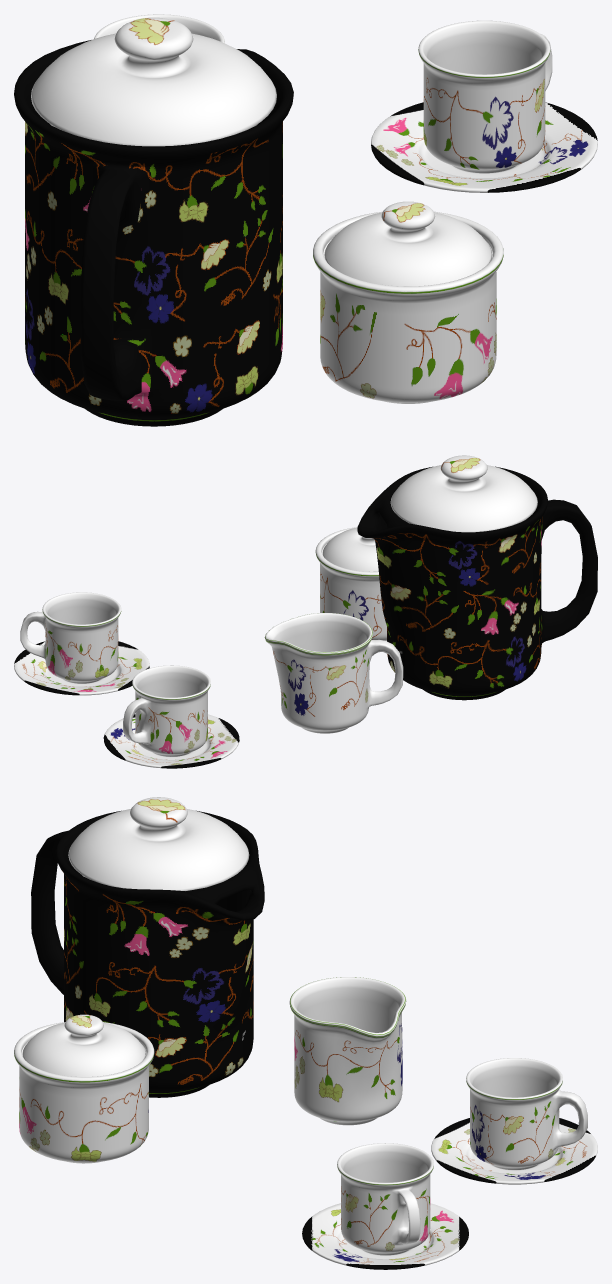
Rendered from teapot_set.obj.
3 views of the same model, one above another, from view 1: azimuth 30°, elevation 25°; view 2: azimuth 150°, elevation 25°; view 3: azimuth 270°, elevation 25° (orthographic). The views are drawn at different scales.
Parts seen in each view (by area): view 1: teapot.001_Plane.013, top_teapot.001_Plane.010, covered_sugar.001_Plane.018, cup.003_Plane.023, top_sugar_pot.001_Plane.017, plate.003_Plane.022, cup.002_Plane.014; view 2: teapot.001_Plane.013, creamer.001_Plane.019, top_teapot.001_Plane.010, cup.003_Plane.023, cup.002_Plane.014, covered_sugar.001_Plane.018, plate.002_Plane.015, plate.003_Plane.022, top_sugar_pot.001_Plane.017; view 3: teapot.001_Plane.013, creamer.001_Plane.019, top_teapot.001_Plane.010, covered_sugar.001_Plane.018, cup.002_Plane.014, cup.003_Plane.023, top_sugar_pot.001_Plane.017, plate.003_Plane.022, plate.002_Plane.015.
Boxes of the visible parts, x1,y1,x2,y2 form: teapot.001_Plane.013: (14,40,293,426); top_teapot.001_Plane.010: (31,17,276,146); covered_sugar.001_Plane.018: (313,211,503,403); cup.003_Plane.023: (418,20,552,173); top_sugar_pot.001_Plane.017: (324,201,492,286); plate.003_Plane.022: (371,102,597,192); cup.002_Plane.014: (94,14,224,43); teapot.001_Plane.013: (357,466,597,700); creamer.001_Plane.019: (264,613,403,733); top_teapot.001_Plane.010: (390,455,537,532); cup.003_Plane.023: (20,592,121,683); cup.002_Plane.014: (123,665,210,756); covered_sugar.001_Plane.018: (315,527,386,640); plate.002_Plane.015: (103,714,239,768); plate.003_Plane.022: (14,641,149,695); top_sugar_pot.001_Plane.017: (322,527,378,571); teapot.001_Plane.013: (31,810,264,1097); creamer.001_Plane.019: (289,977,406,1125); top_teapot.001_Plane.010: (68,797,249,890); covered_sugar.001_Plane.018: (14,1022,154,1163); cup.002_Plane.014: (466,1058,587,1169); cup.003_Plane.023: (337,1143,433,1255); top_sugar_pot.001_Plane.017: (22,1014,145,1076); plate.003_Plane.022: (302,1203,468,1269); plate.002_Plane.015: (431,1118,597,1184).
Bounding box in the file's own units: 4.46 × 2.13 × 4.2.
9 materials, 9 textured.
